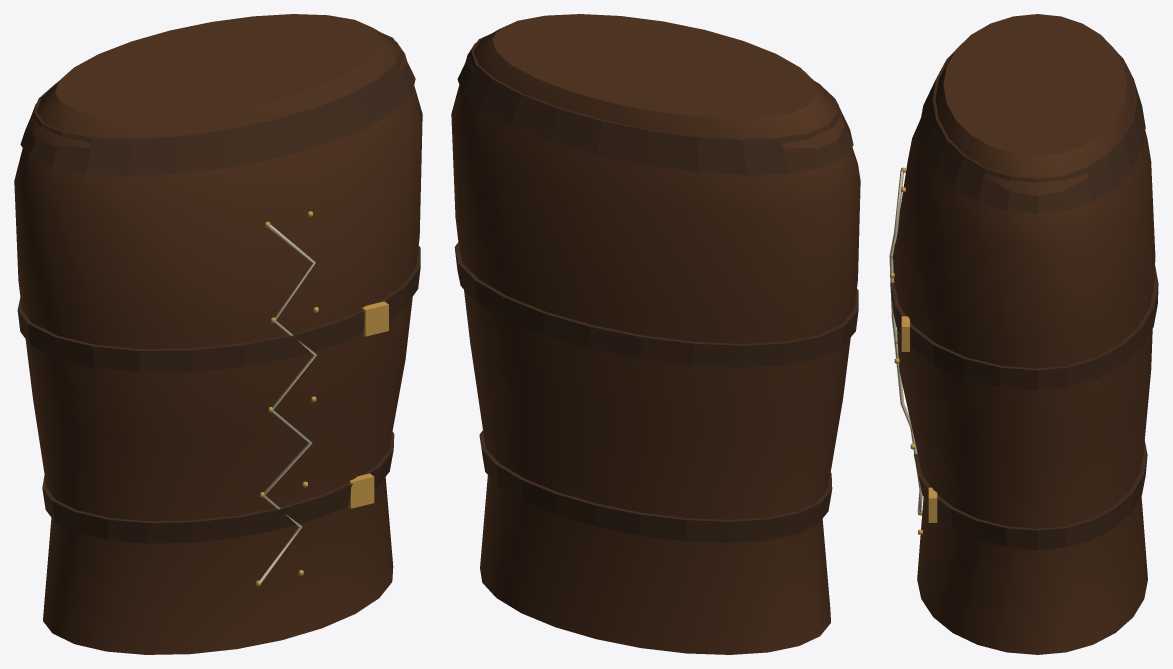
The model's file is body_vest.glb.
3 renders of one model, left to right at view 1: azimuth 30°, elevation 25°; view 2: azimuth 150°, elevation 25°; view 3: azimuth 270°, elevation 25°, orthographic. The views are drawn at different scales.
Parts seen in each view (by area): view 1: Body_vest_Leather, Body_vest_Worn_leather, Body_vest_Brass, Body_vest_String; view 2: Body_vest_Leather, Body_vest_Worn_leather; view 3: Body_vest_Leather, Body_vest_Worn_leather, Body_vest_String, Body_vest_Brass.
Boxes of the visible parts, <box> form: Body_vest_Leather: <box>14,14,422,654</box>; Body_vest_Worn_leather: <box>17,33,420,543</box>; Body_vest_Brass: <box>256,211,388,586</box>; Body_vest_String: <box>259,224,317,584</box>; Body_vest_Leather: <box>451,14,860,654</box>; Body_vest_Worn_leather: <box>454,34,858,542</box>; Body_vest_Leather: <box>893,14,1155,654</box>; Body_vest_Worn_leather: <box>890,51,1158,549</box>; Body_vest_String: <box>889,170,922,513</box>; Body_vest_Brass: <box>890,167,937,534</box>.
Size of the model in its own units: 0.4 by 0.52 by 0.2564.
